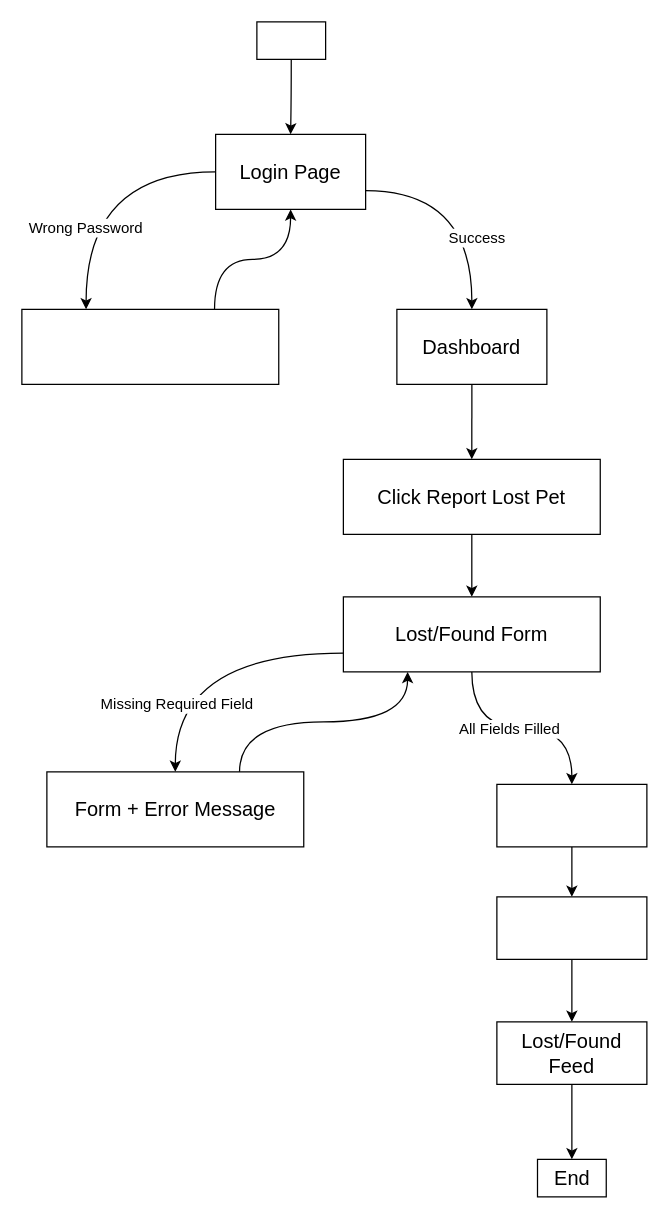
This 669x1219 diagram has some shape labels left out. The centre of each missing label's shape, as x and y in pixels:
"Login + Error Message" goes at [150,346].
"Report Saved" goes at [571,927].
"Start" goes at [291,40].
"Submit Report" goes at [571,815].
